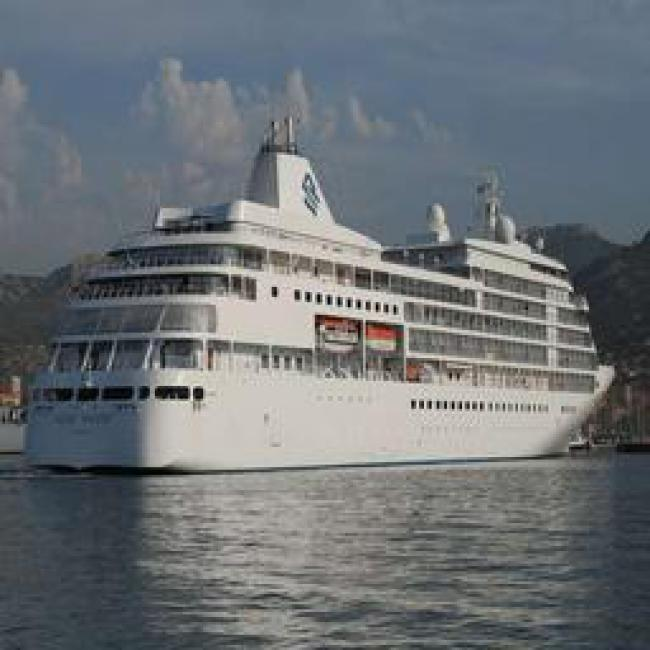Ship: (25, 166, 617, 475)
